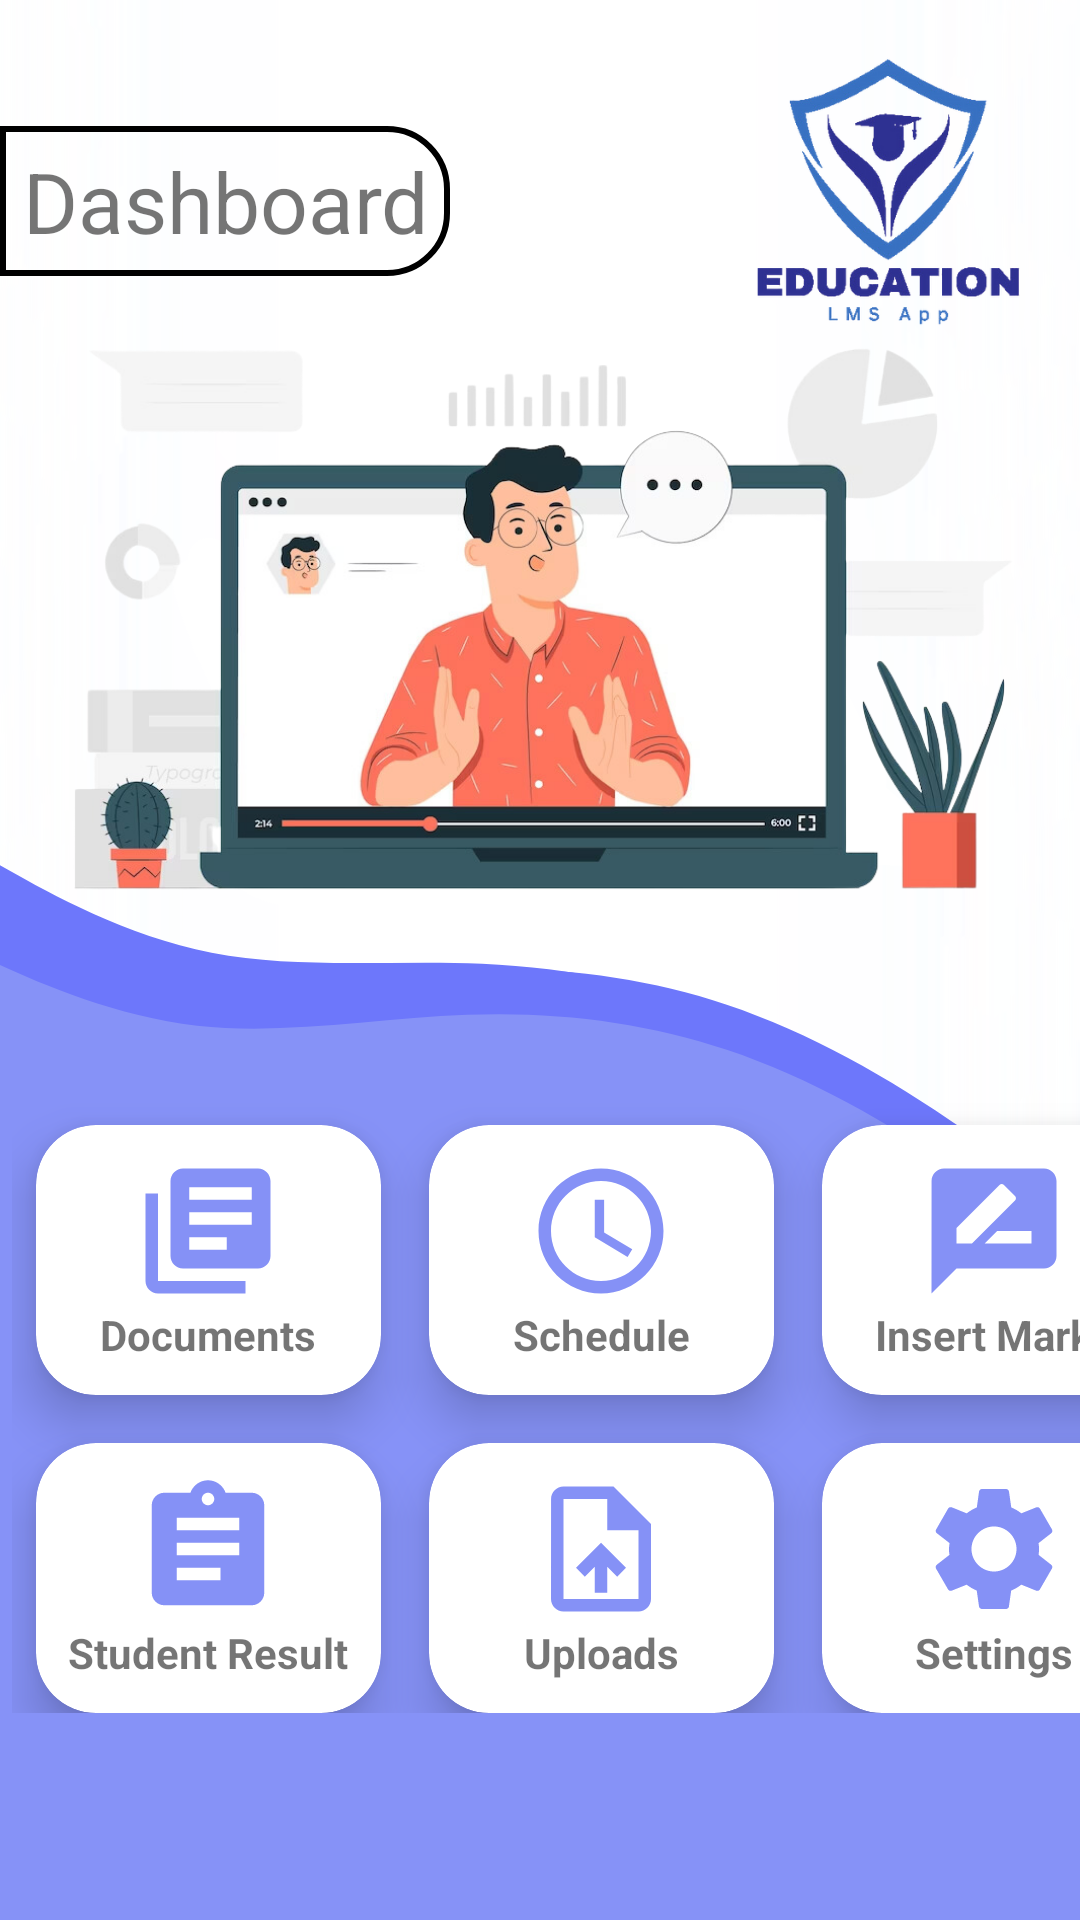

Point at icon controls on the screen. Image size 1080*1920, points as [x,y].
assignmet marks view: [208,1543]
rate review exam: [994,1230]
